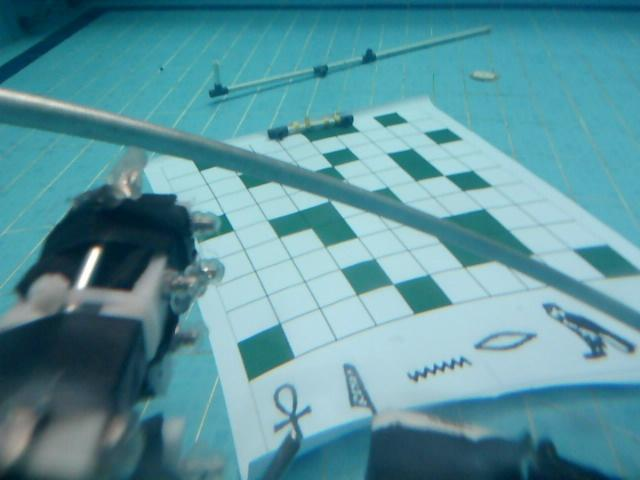Ankh: (262, 375, 321, 454)
Mouth: (470, 323, 539, 359)
Owl: (538, 296, 636, 364)
Reed: (334, 357, 384, 421)
Water: (402, 357, 478, 384)
